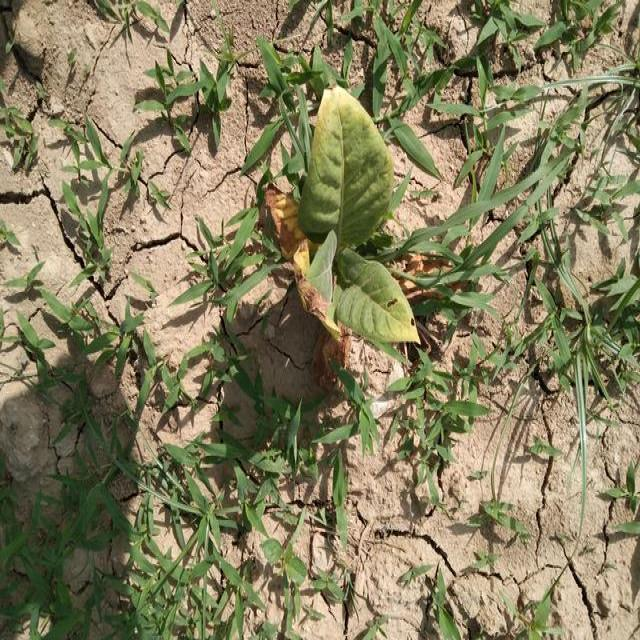crop: (292, 74, 429, 368)
